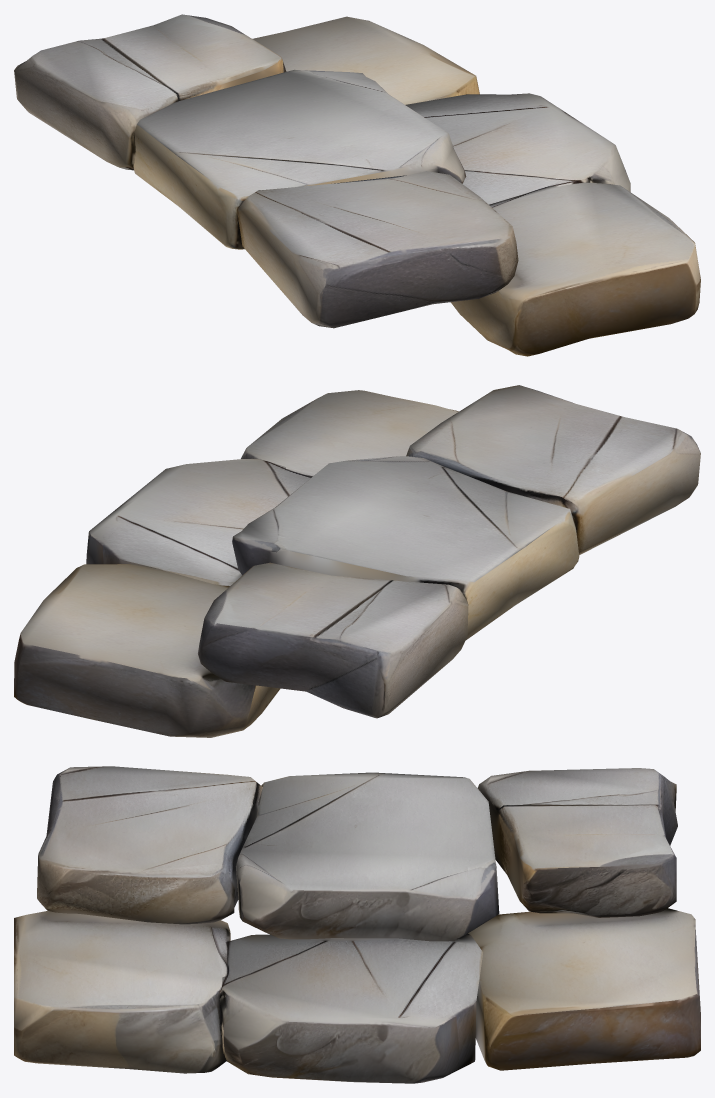
The model's file is SM_StoneSteps.fbx.
3 renders of one model, top to bottom at view 1: azimuth 30°, elevation 25°; view 2: azimuth 150°, elevation 25°; view 3: azimuth 270°, elevation 25°, orthographic. The views are drawn at different scales.
Parts seen in each view (by area): view 1: SM_StoneSteps; view 2: SM_StoneSteps; view 3: SM_StoneSteps.
Part boxes in pixels (left/top/right/bottom): SM_StoneSteps: left=14, top=14, right=700, bottom=356; SM_StoneSteps: left=14, top=385, right=700, bottom=737; SM_StoneSteps: left=14, top=766, right=700, bottom=1083.
Bounding box in the file's own units: 374 × 104 × 535.
